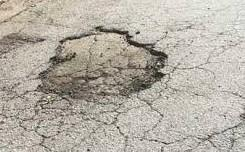alligator-crack: (29, 98, 157, 146)
crack: (180, 126, 241, 150)
pothole: (43, 22, 189, 101)
